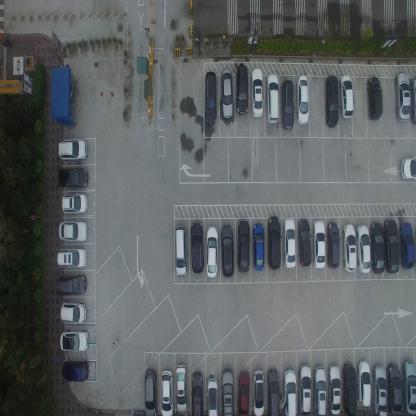car: (384, 218, 400, 273), (297, 361, 313, 416), (57, 136, 88, 164), (393, 72, 410, 122), (267, 215, 282, 271), (386, 363, 402, 415), (371, 363, 387, 415), (56, 163, 88, 189), (265, 72, 280, 126), (402, 358, 416, 415), (173, 225, 188, 278), (220, 222, 234, 278), (236, 218, 250, 274), (282, 216, 297, 268), (370, 222, 385, 274), (324, 75, 339, 127), (280, 78, 295, 130), (56, 271, 88, 295), (56, 245, 88, 269), (57, 219, 89, 243), (341, 221, 356, 272), (190, 219, 204, 273), (204, 70, 217, 128), (60, 328, 90, 353), (399, 222, 415, 268), (338, 74, 354, 120), (205, 224, 218, 280), (296, 74, 310, 126), (342, 363, 356, 415), (327, 363, 341, 415), (60, 358, 89, 383), (58, 300, 87, 325), (297, 218, 312, 266), (356, 358, 371, 406), (312, 219, 326, 270), (250, 67, 264, 118), (282, 368, 297, 415), (251, 368, 266, 415), (366, 76, 382, 120), (236, 62, 249, 115), (175, 362, 188, 415), (313, 366, 327, 415), (221, 366, 235, 415), (327, 220, 341, 268), (61, 191, 89, 215), (357, 223, 370, 274), (266, 368, 280, 415), (160, 368, 174, 415), (252, 221, 265, 271), (190, 370, 204, 416), (221, 67, 233, 120), (144, 367, 157, 415), (238, 367, 250, 415), (206, 376, 219, 416), (400, 155, 416, 182), (410, 77, 416, 124)
